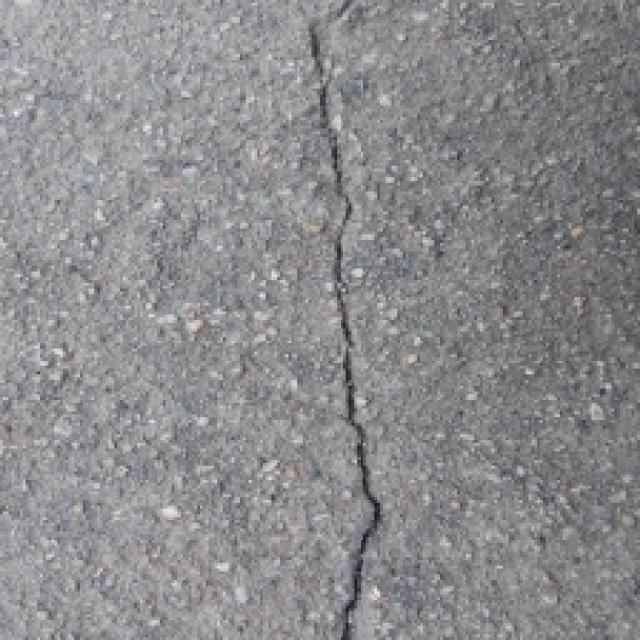SurfaceCrack: (284, 2, 414, 640)
